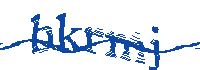b: (32, 15, 52, 53)
j: (147, 23, 163, 70)
k: (55, 11, 81, 53)
m: (107, 32, 148, 65)
r: (82, 26, 105, 55)
